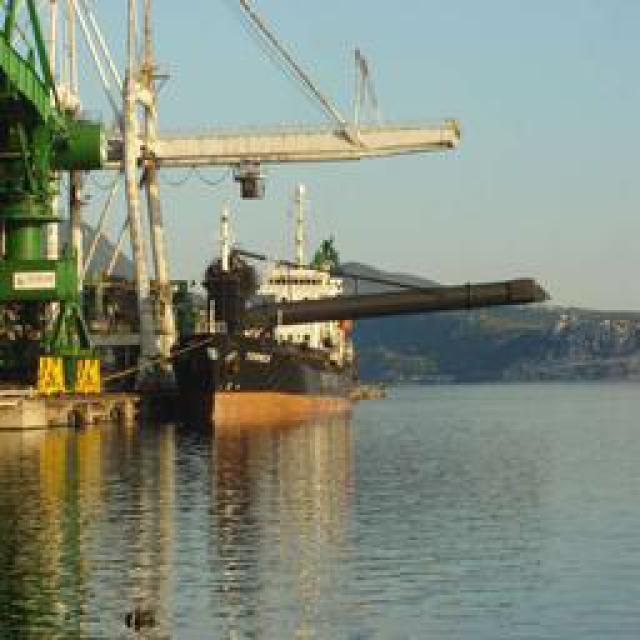Ship: (172, 190, 359, 444)
